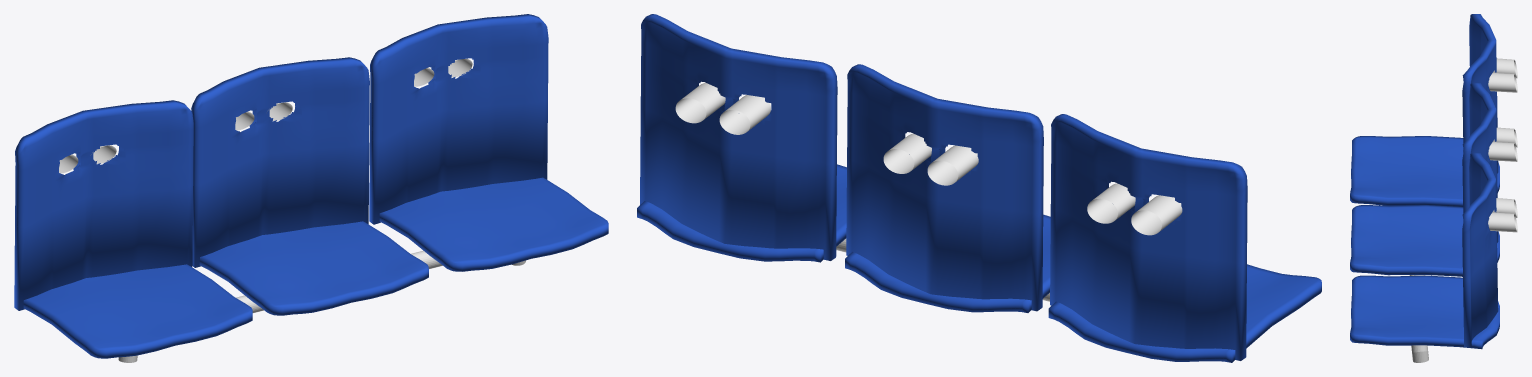
Rendered from bench.glb.
3 renders of one model, left to right at view 1: azimuth 30°, elevation 25°; view 2: azimuth 150°, elevation 25°; view 3: azimuth 270°, elevation 25°, orthographic. The views are drawn at different scales.
Visible parts, largest first — view 1: Upper part Left Chair_1, Upper part middle chair.001_11, Upper part middle chair_4, Lower Part Left Chair_0, Lower Part middle Chair_5, Lower Part Right Chair_8; view 2: Upper part middle chair_4, Upper part Left Chair_1, Upper part middle chair.001_11, Lower Part Left Chair_0, Lower Part Right Chair_8, Lower Part middle Chair_5, Spacer5_7, Spacer1_2, Spacer6_9, Spacer7_10, Spacer3_3, Spacer4_6; view 3: Lower Part Right Chair_8, Lower Part middle Chair_5, Lower Part Left Chair_0, Upper part middle chair.001_11, Upper part middle chair_4, Upper part Left Chair_1, Spacer7_10, Spacer4_6, Spacer3_3, Spacer1_2, Spacer5_7, Spacer6_9 (+1 smaller).
Part boxes in pixels (<box>): Upper part Left Chair_1: <box>14,100,193,310</box>; Upper part middle chair.001_11: <box>369,14,548,224</box>; Upper part middle chair_4: <box>191,57,369,267</box>; Lower Part Left Chair_0: <box>23,264,252,358</box>; Lower Part middle Chair_5: <box>199,221,428,315</box>; Lower Part Right Chair_8: <box>379,177,608,271</box>; Upper part middle chair_4: <box>846,64,1043,311</box>; Upper part Left Chair_1: <box>1050,114,1247,360</box>; Upper part middle chair.001_11: <box>640,14,837,260</box>; Lower Part Left Chair_0: <box>1048,264,1321,362</box>; Lower Part Right Chair_8: <box>637,164,846,262</box>; Lower Part middle Chair_5: <box>845,214,1050,312</box>; Spacer5_7: <box>927,145,978,185</box>; Spacer1_2: <box>1131,195,1182,235</box>; Spacer6_9: <box>719,95,770,134</box>; Spacer7_10: <box>675,83,725,123</box>; Spacer3_3: <box>1087,183,1135,223</box>; Spacer4_6: <box>883,133,931,173</box>; Lower Part Right Chair_8: <box>1350,275,1499,349</box>; Lower Part middle Chair_5: <box>1350,205,1499,276</box>; Lower Part Left Chair_0: <box>1350,136,1499,206</box>; Upper part middle chair.001_11: <box>1462,153,1498,347</box>; Upper part middle chair_4: <box>1462,83,1498,242</box>; Upper part Left Chair_1: <box>1462,14,1498,173</box>; Spacer7_10: <box>1488,212,1517,232</box>; Spacer4_6: <box>1488,142,1517,161</box>; Spacer3_3: <box>1488,73,1517,92</box>; Spacer1_2: <box>1493,58,1517,78</box>; Spacer5_7: <box>1493,127,1517,147</box>; Spacer6_9: <box>1493,198,1517,217</box>.
Bounding box in the file's own units: 2.38 × 0.9192 × 0.82.
